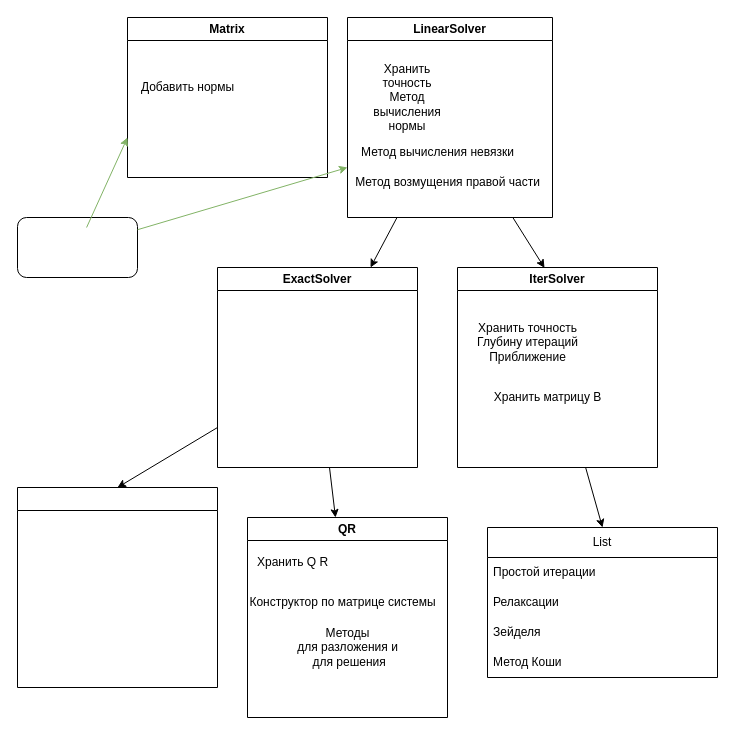
Image size: 735x735. Some labels were removed from this diagram. The centre of each missing label's shape, as x and y in pixels:
"Gaussian" goes at pixel 117 587.
"Добавить число обусловленности" goes at pixel 77 247.
